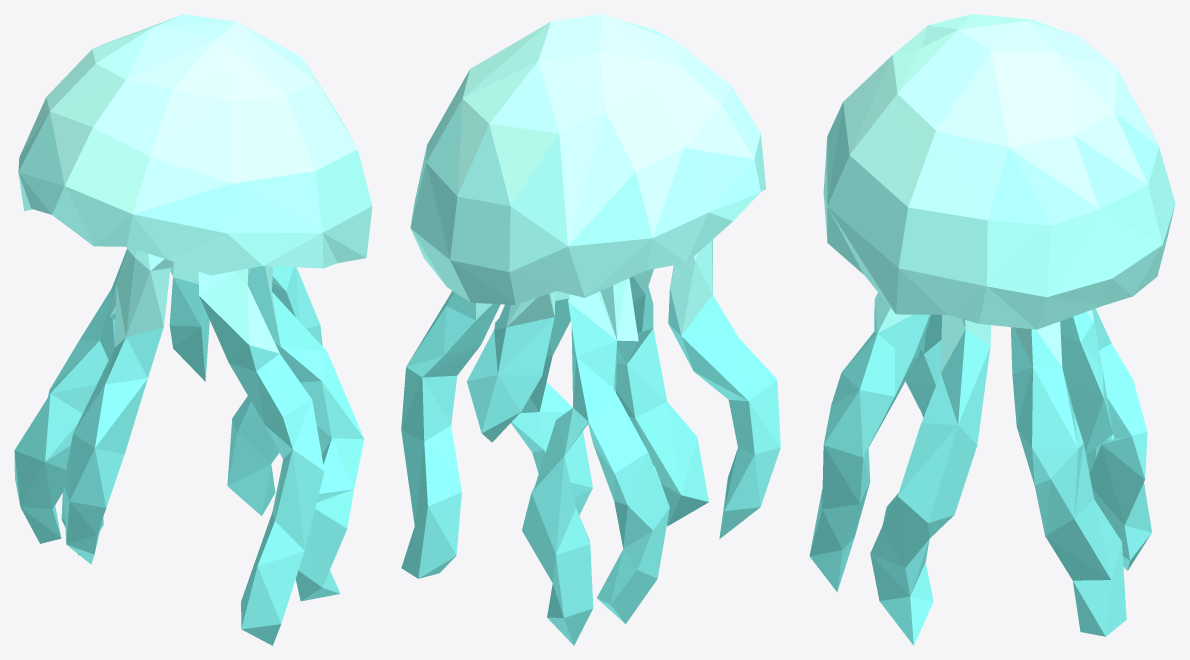
Rendered from jellyfish.glb.
3 renders of one model, left to right at view 1: azimuth 30°, elevation 25°; view 2: azimuth 150°, elevation 25°; view 3: azimuth 270°, elevation 25°, orthographic.
Parts seen in each view (by area): view 1: jellyfish; view 2: jellyfish; view 3: jellyfish.
Boxes of the visible parts, <box> form: jellyfish: <box>14,14,372,645</box>; jellyfish: <box>401,14,780,645</box>; jellyfish: <box>809,14,1175,645</box>.
Size of the model in its own units: 0.42 by 0.72 by 0.42.
